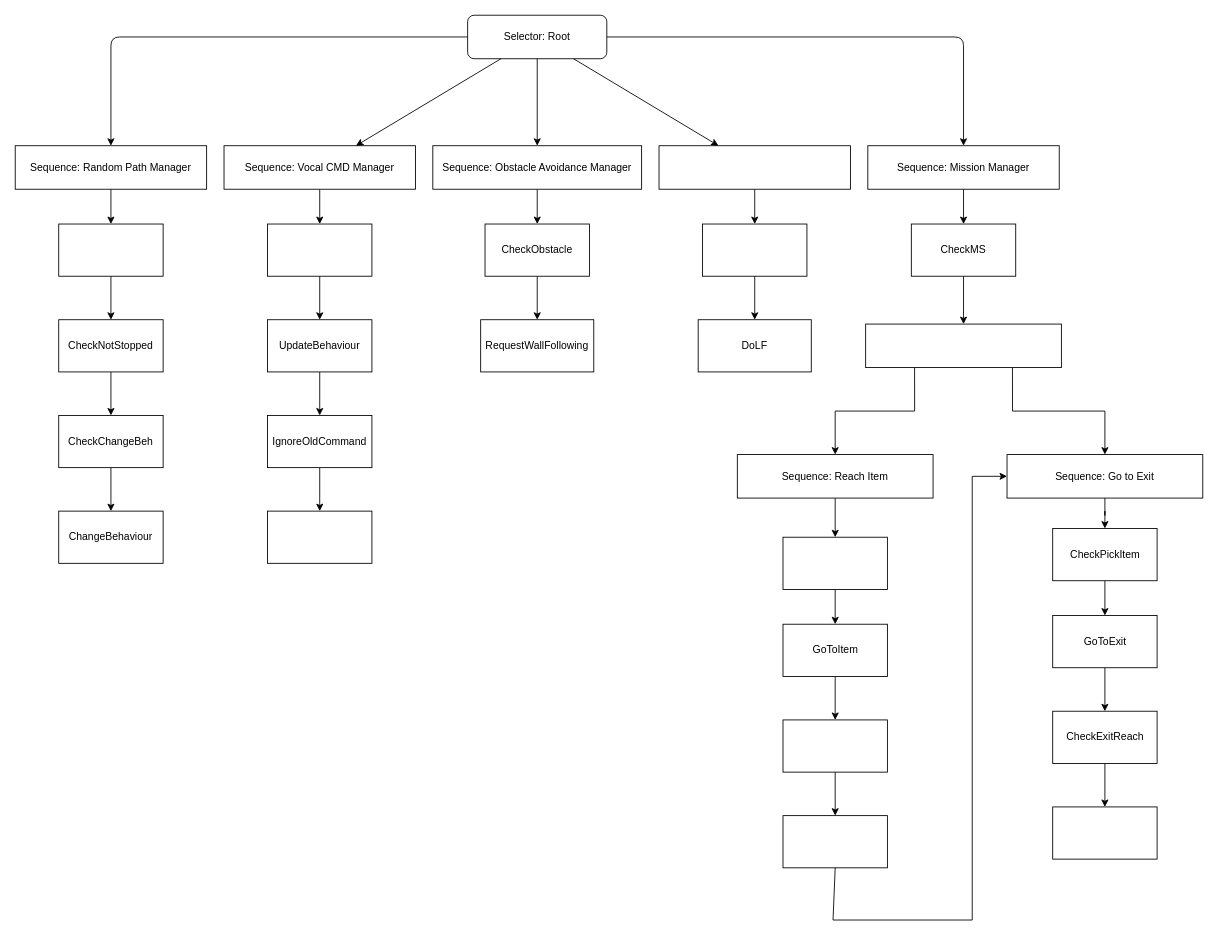
This 1218x942 diagram has some shape labels left out. The shapes that lost their labels are listed below. From the top down, each one's centre as x and y in pixels, then its label:
At (x=754, y=167): "Sequence: Line Following Manager".
At (x=110, y=249): "CheckSense".
At (x=319, y=249): "CheckVocalCMD".
At (x=754, y=249): "CheckLF".
At (x=963, y=345): "Selector: Mission Task".
At (x=319, y=536): "CheckStopCMD".
At (x=834, y=562): "CheckItemNotPicked".
At (x=834, y=745): "CheckReachItem".
At (x=834, y=841): "PickItem".
At (x=1104, y=832): "ReleaseItem".
